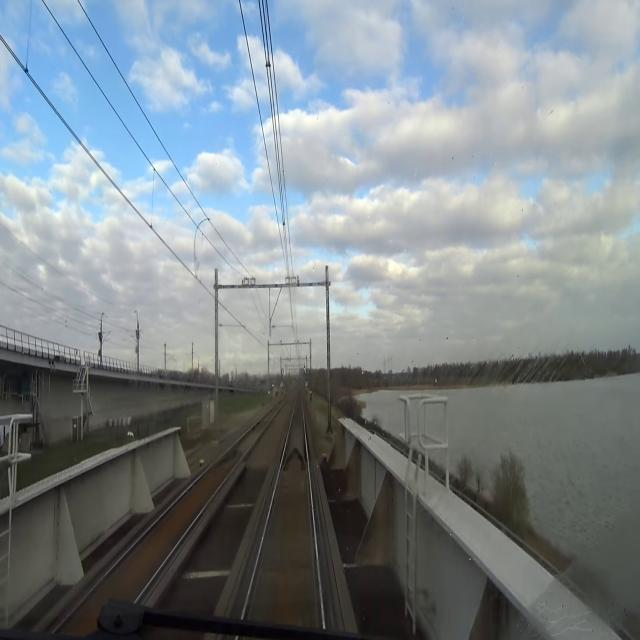rail-track: (63, 413, 272, 639), (252, 452, 313, 629), (286, 396, 304, 450)
